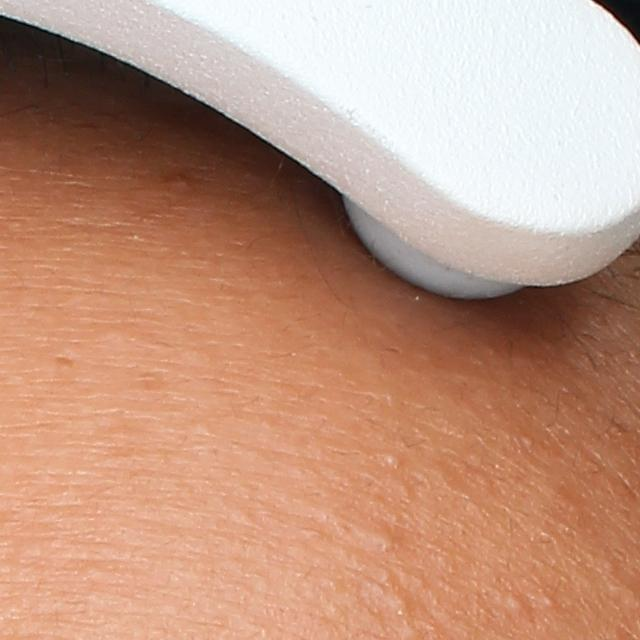comedo: (380, 593, 415, 621), (365, 528, 398, 555), (505, 594, 528, 615), (384, 453, 402, 471), (542, 594, 558, 608)
